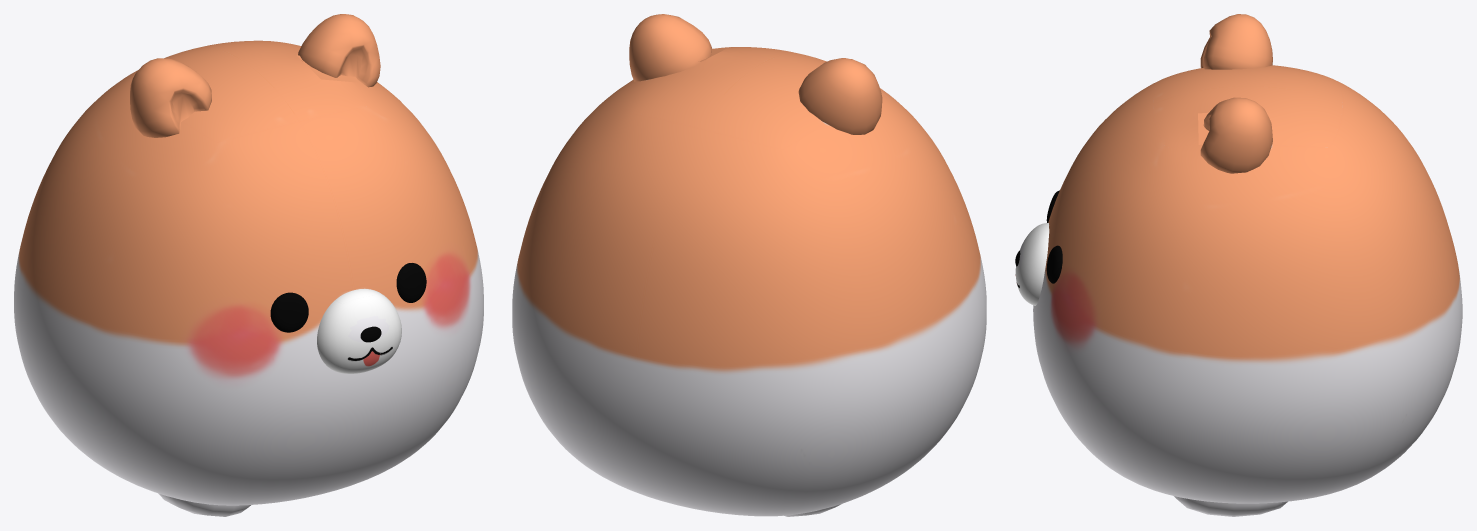
The model's file is toyy.glb.
3 views of the same model, side by side, from view 1: azimuth 30°, elevation 25°; view 2: azimuth 150°, elevation 25°; view 3: azimuth 270°, elevation 25° (orthographic). The views are drawn at different scales.
Visible parts, largest first — view 1: Cube_0, Cube.001_3, Cube.003_1, Cylinder_2; view 2: Cube_0, Cube.001_3; view 3: Cube_0, Cube.001_3, Cube.003_1, Cylinder_2.
Boxes of the visible parts, left/top/right/bottom form: Cube_0: left=14, top=40, right=483, bottom=516; Cube.001_3: left=130, top=14, right=380, bottom=137; Cube.003_1: left=317, top=288, right=401, bottom=373; Cylinder_2: left=270, top=263, right=426, bottom=332; Cube_0: left=512, top=47, right=986, bottom=516; Cube.001_3: left=629, top=14, right=882, bottom=134; Cube_0: left=1033, top=65, right=1462, bottom=516; Cube.001_3: left=1198, top=14, right=1272, bottom=173; Cube.003_1: left=1015, top=223, right=1049, bottom=305; Cylinder_2: left=1046, top=190, right=1062, bottom=283.
Size of the model in its own units: 1.82 by 1.95 by 1.84.
4 materials, 3 textured.
